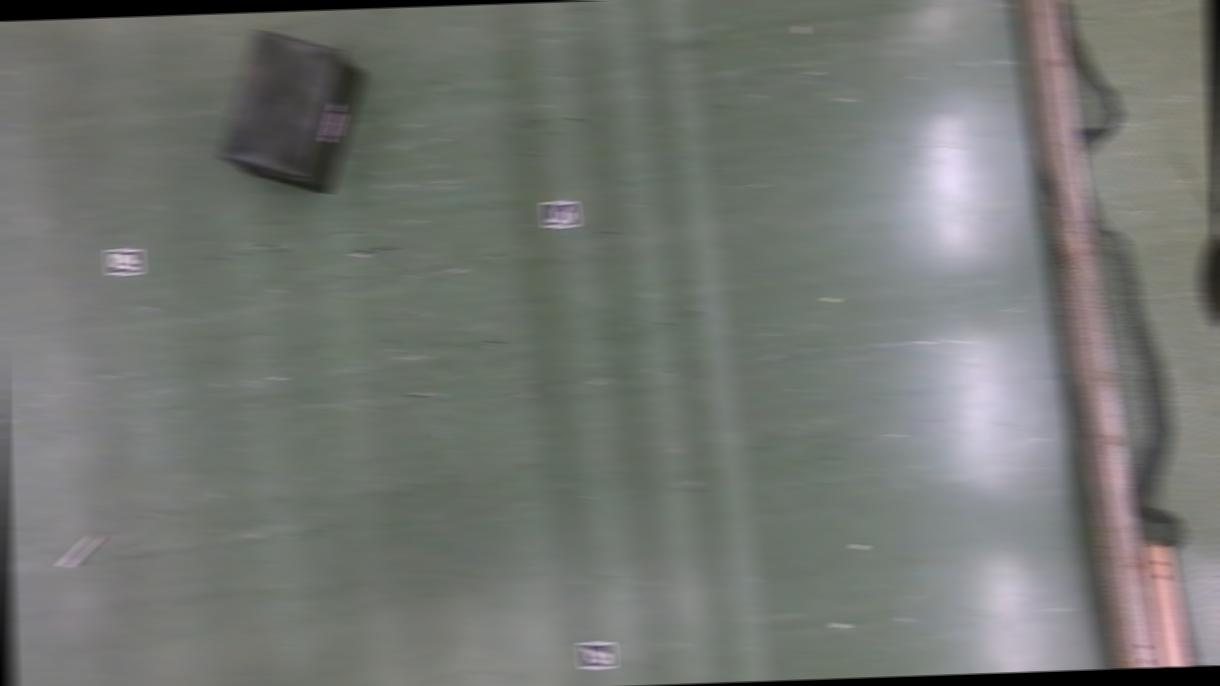probes: (58, 531, 105, 568)
rako: (214, 25, 372, 198)
